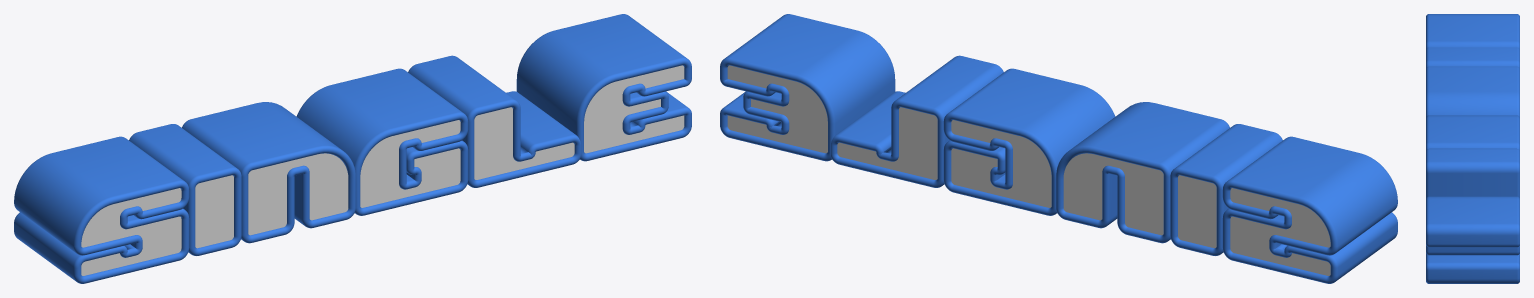
File: single.fbx
3 renders of one model, left to right at view 1: azimuth 30°, elevation 25°; view 2: azimuth 150°, elevation 25°; view 3: azimuth 270°, elevation 25°, orthographic. The views are drawn at different scales.
Parts seen in each view (by area): view 1: Text.001, Text; view 2: Text.001, Text; view 3: Text.001.
Part boxes in pixels (x1,y1,x2,y2): Text.001: (14,14,691,283); Text: (81,65,684,275); Text.001: (720,14,1397,283); Text: (727,65,1330,275); Text.001: (1426,14,1519,283).
Size of the model in its own units: 520 by 64.33 by 92.
